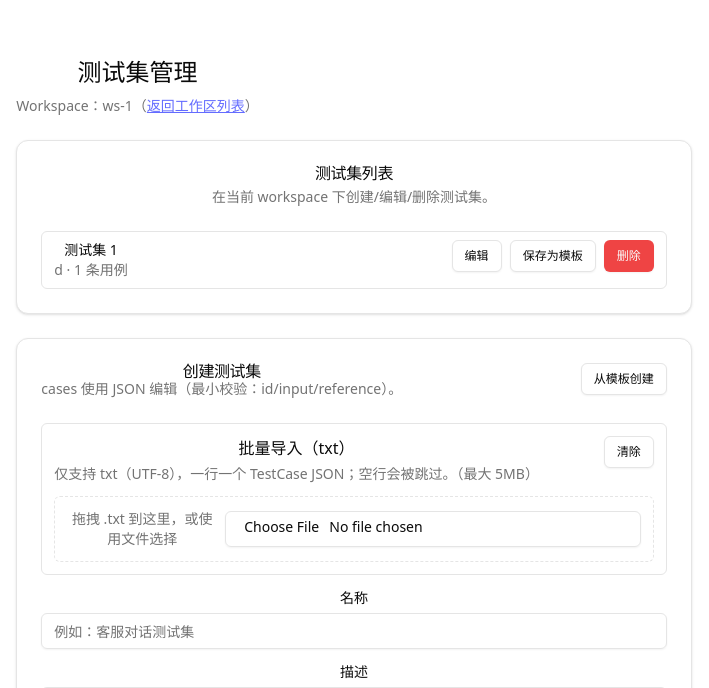
Test: TestSetsView templates › Dify 变量配置：解析失败应展示友好错误并可重试
Click the button "编辑".
click(477, 256)  # box [452,240,502,272]
(page scrolled)
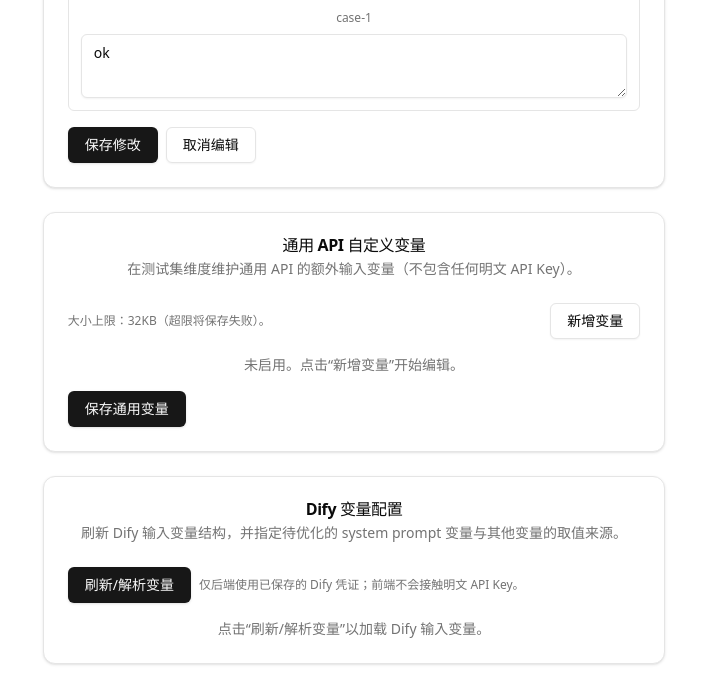
Result: the text "Dify 变量配置" is shown at [306,498,402,520]
Click the button "刷新/解析变量".
click(129, 585)  # box [68,567,191,603]
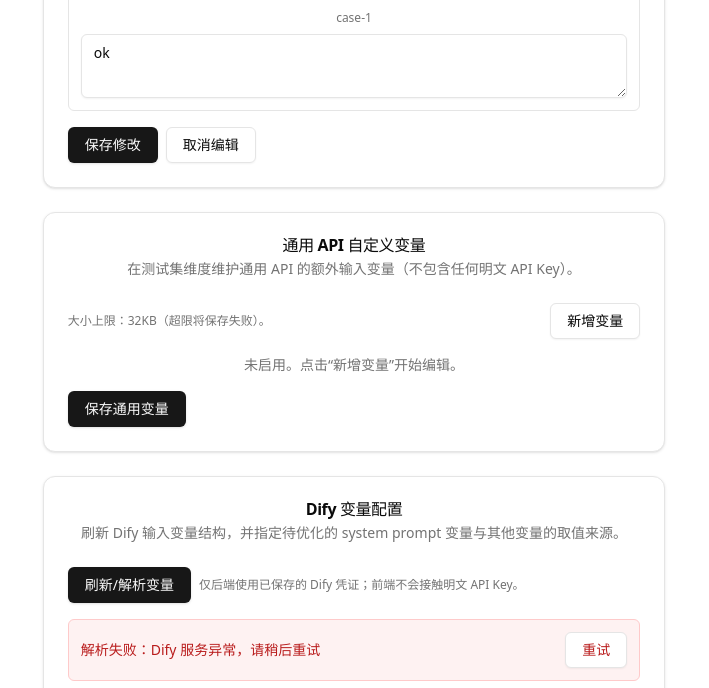
Result: the text "解析失败：Dify 服务异常，请稍后重试" is shown at [81,640,320,660]
Result: the button "重试" is shown at [565,632,627,668]
